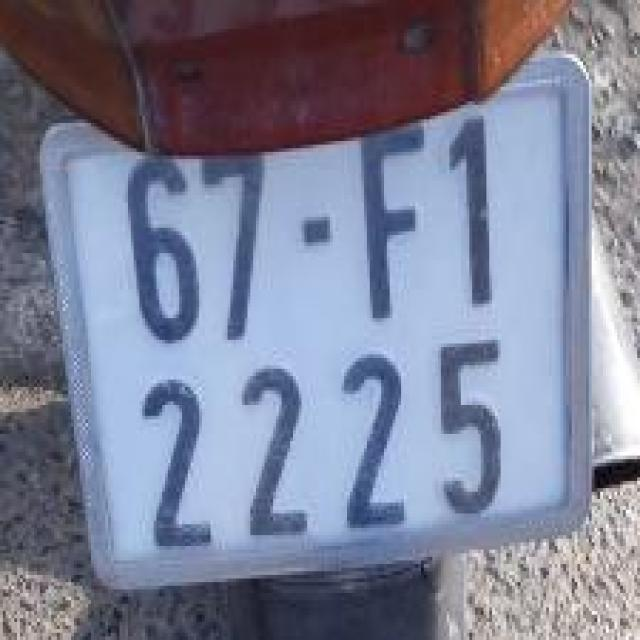1: (448, 105, 513, 311)
2: (129, 369, 212, 553), (331, 332, 411, 520), (236, 354, 310, 542)
5: (429, 318, 504, 517)
6: (110, 139, 204, 349)
7: (198, 126, 288, 344)
F: (338, 90, 426, 337)
